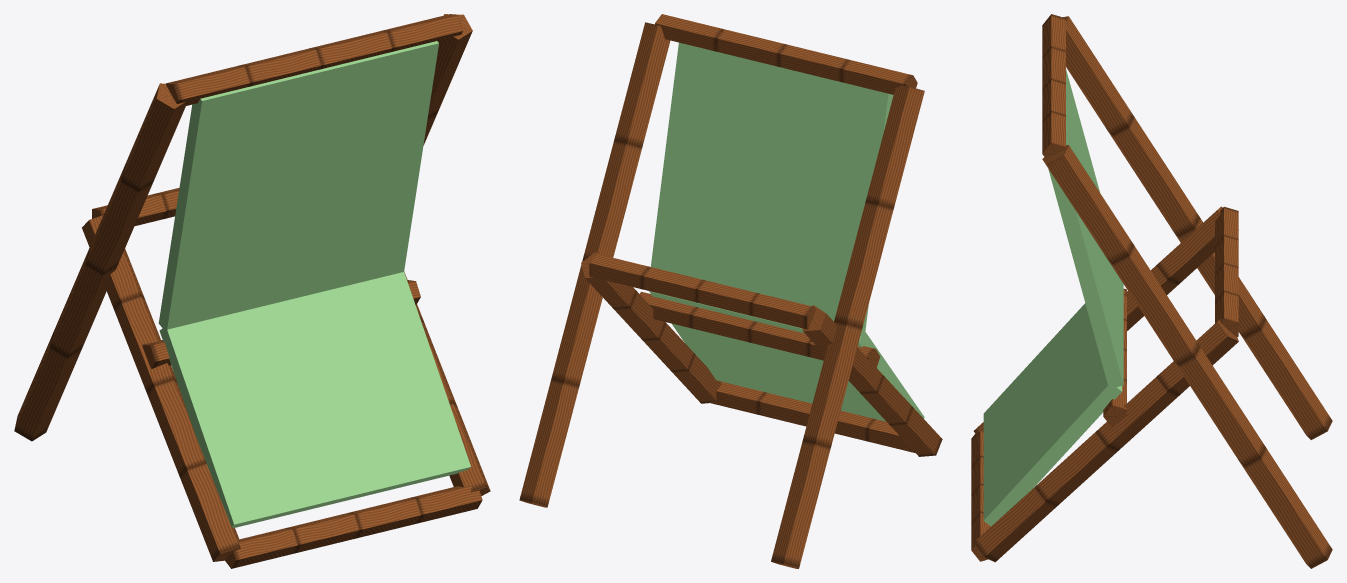
File: allotments-and-community-garden-deckchair-green-8908dab5.glb
3 renders of one model, left to right at view 1: azimuth 30°, elevation 25°; view 2: azimuth 150°, elevation 25°; view 3: azimuth 270°, elevation 25°, orthographic. The views are drawn at different scales.
Parts seen in each view (by area): view 1: deckchair-green-terracotta, deckchair-green-timber; view 2: deckchair-green-timber, deckchair-green-terracotta; view 3: deckchair-green-timber, deckchair-green-terracotta.
Part boxes in pixels (x1,y1,x2,y2): deckchair-green-terracotta: (158, 41, 470, 527); deckchair-green-timber: (14, 14, 490, 568); deckchair-green-timber: (519, 14, 942, 568); deckchair-green-terracotta: (649, 42, 924, 421); deckchair-green-timber: (971, 14, 1332, 568); deckchair-green-terracotta: (983, 69, 1123, 526).
Bounding box in the file's own units: 0.6579 × 0.9295 × 0.7122.
2 materials, 1 textured.
